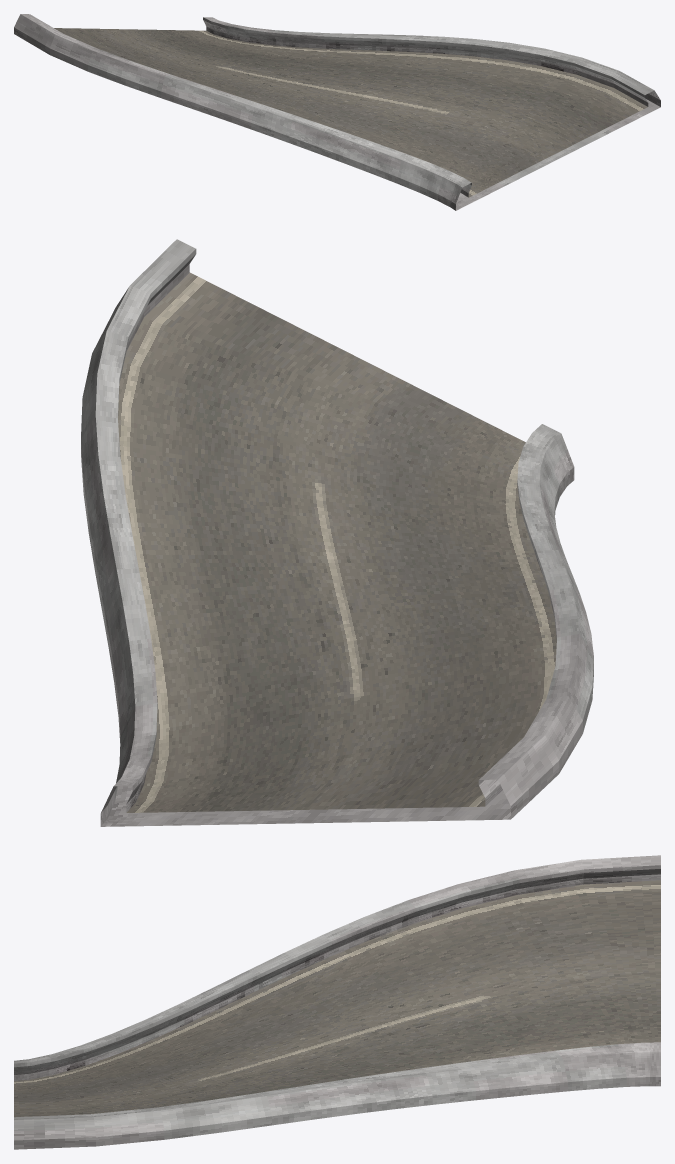
File: chicane-left1x2.glb
3 renders of one model, top to bottom at view 1: azimuth 30°, elevation 25°; view 2: azimuth 150°, elevation 25°; view 3: azimuth 270°, elevation 25°, orthographic. The views are drawn at different scales.
Parts seen in each view (by area): view 1: road-Chicane-HalfBankedLeft-HalfBankedRight-Even-Left1-Size2; view 2: road-Chicane-HalfBankedLeft-HalfBankedRight-Even-Left1-Size2; view 3: road-Chicane-HalfBankedLeft-HalfBankedRight-Even-Left1-Size2.
Boxes of the visible parts, x1,y1,x2,y2 form: road-Chicane-HalfBankedLeft-HalfBankedRight-Even-Left1-Size2: (14, 14, 660, 210); road-Chicane-HalfBankedLeft-HalfBankedRight-Even-Left1-Size2: (81, 239, 593, 826); road-Chicane-HalfBankedLeft-HalfBankedRight-Even-Left1-Size2: (14, 855, 660, 1149).
Size of the model in its own units: 2 by 0.3359 by 2.
Materials: 2 (2 with a texture image).
